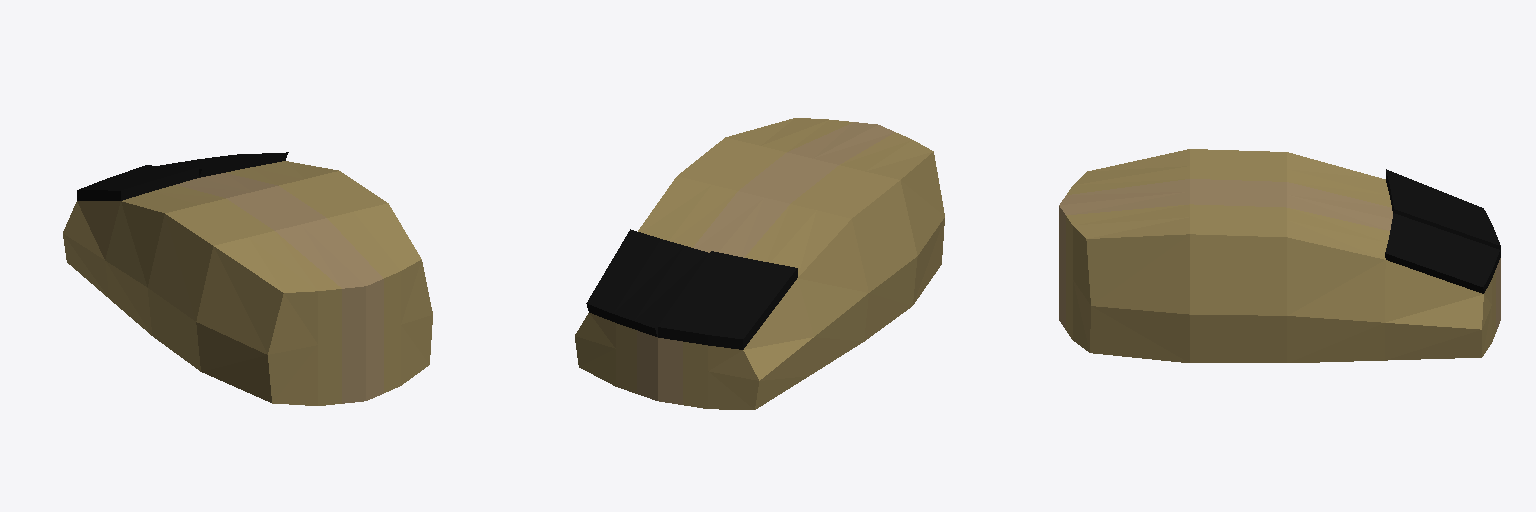
File: Mouse.obj
3 renders of one model, left to right at view 1: azimuth 30°, elevation 25°; view 2: azimuth 150°, elevation 25°; view 3: azimuth 270°, elevation 25°, orthographic.
Parts seen in each view (by area): view 1: Cube.001_Cube.004; view 2: Cube.001_Cube.004; view 3: Cube.001_Cube.004.
Part boxes in pixels (bbox=[...]): Cube.001_Cube.004: bbox=[63, 152, 432, 405]; Cube.001_Cube.004: bbox=[575, 118, 944, 409]; Cube.001_Cube.004: bbox=[1059, 149, 1500, 362].
Bounding box in the file's own units: 0.2 × 0.1175 × 0.3653.